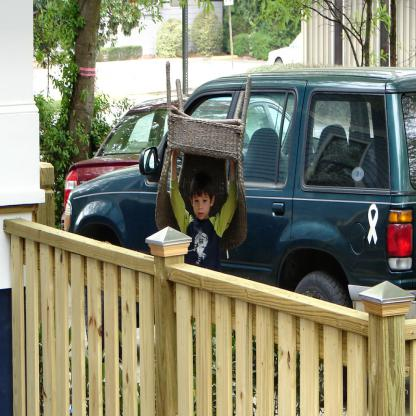Car: (62, 63, 416, 318), (62, 91, 292, 229), (266, 31, 302, 66)
